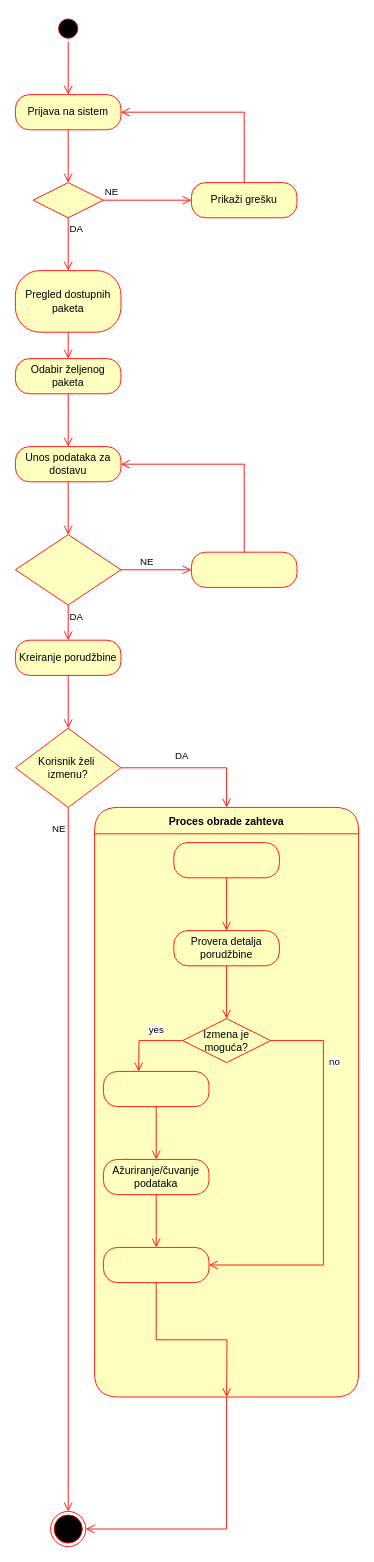
Some shapes in this 374 by 1562 pixel diagram are drawn without their labels. Here are the shapes that lost their labels. From the top down, the centre of each, then its label:
point (67, 200): Uspešno?
point (68, 569): Svi podaci su ispravni?
point (244, 569): Korigovanje podataka
point (226, 860): Administrator prihvata zahtev
point (156, 1089): Izmena odgovarajućih podataka
point (156, 1265): Slanje povratne informacije korisniku
